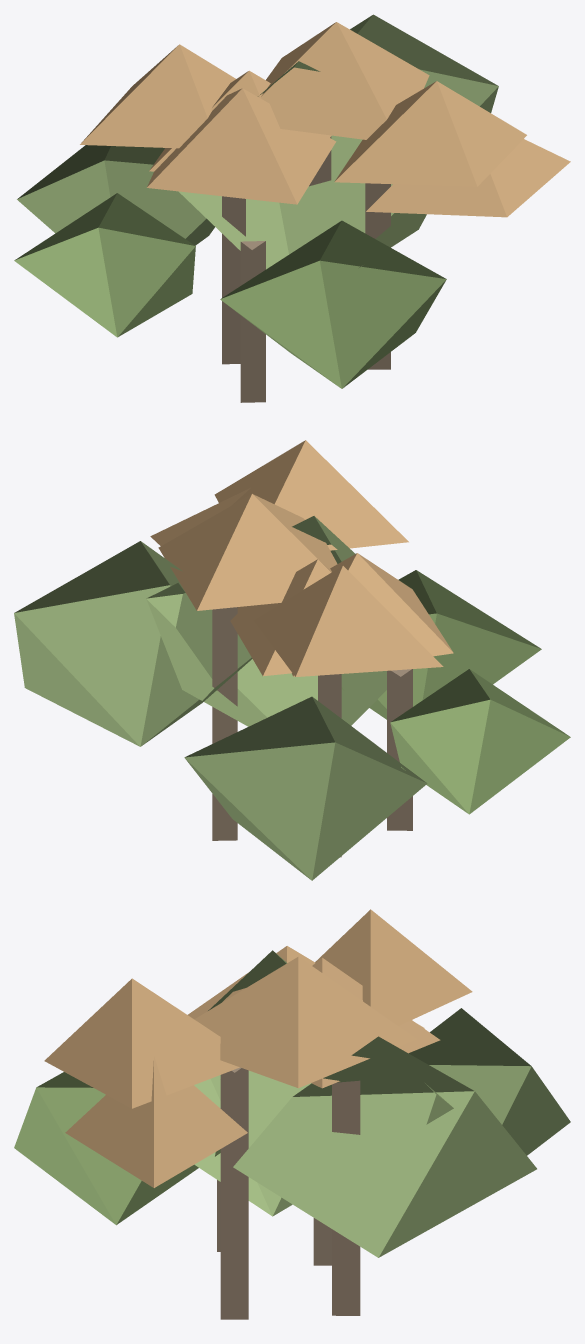
The model's file is shrub.temp.hazel_bloom__bloom.glb.
The picture shows the model from 3 angles, top to bottom: view 1: azimuth 30°, elevation 25°; view 2: azimuth 150°, elevation 25°; view 3: azimuth 270°, elevation 25°; orthographic projection. The views are drawn at different scales.
Visible parts, largest first — view 1: shrub.temp.hazel_bloom__bloom; view 2: shrub.temp.hazel_bloom__bloom; view 3: shrub.temp.hazel_bloom__bloom.
Boxes of the visible parts, x1=… form: shrub.temp.hazel_bloom__bloom: x1=14, y1=14, x2=570, y2=402; shrub.temp.hazel_bloom__bloom: x1=14, y1=440, x2=570, y2=880; shrub.temp.hazel_bloom__bloom: x1=14, y1=909, x2=570, y2=1319.
Bounding box in the file's own units: 2.49 × 1.62 × 2.27.
